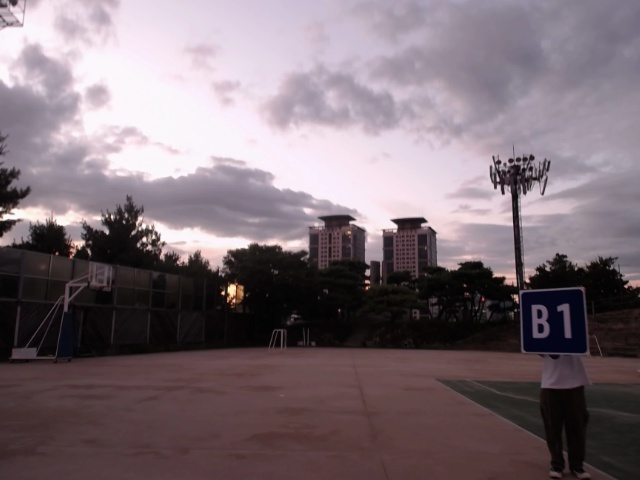delivery_b1: (518, 288, 589, 356)
